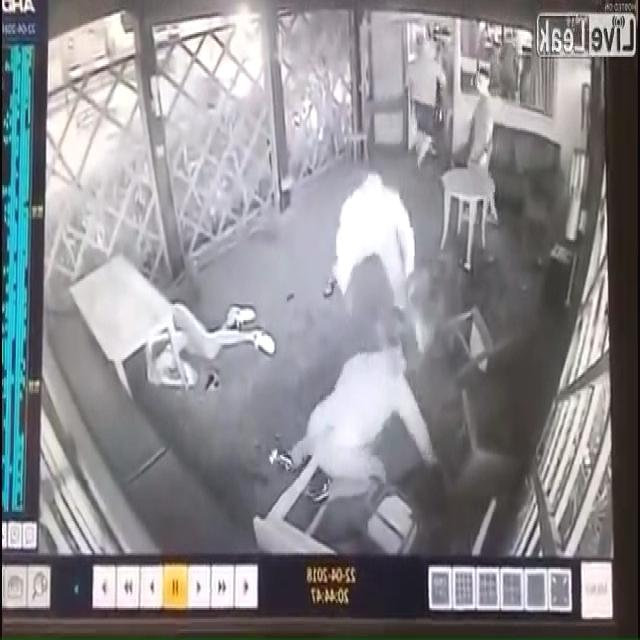fight: (264, 152, 440, 520)
